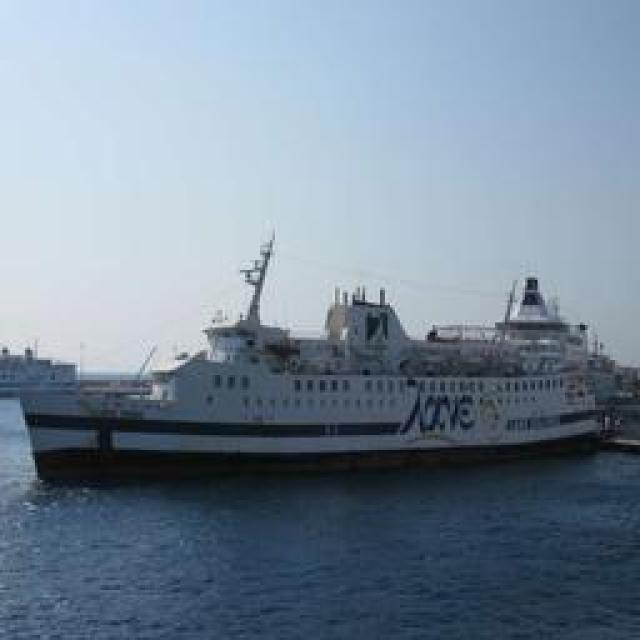CIV_Ship: (19, 220, 619, 472)
